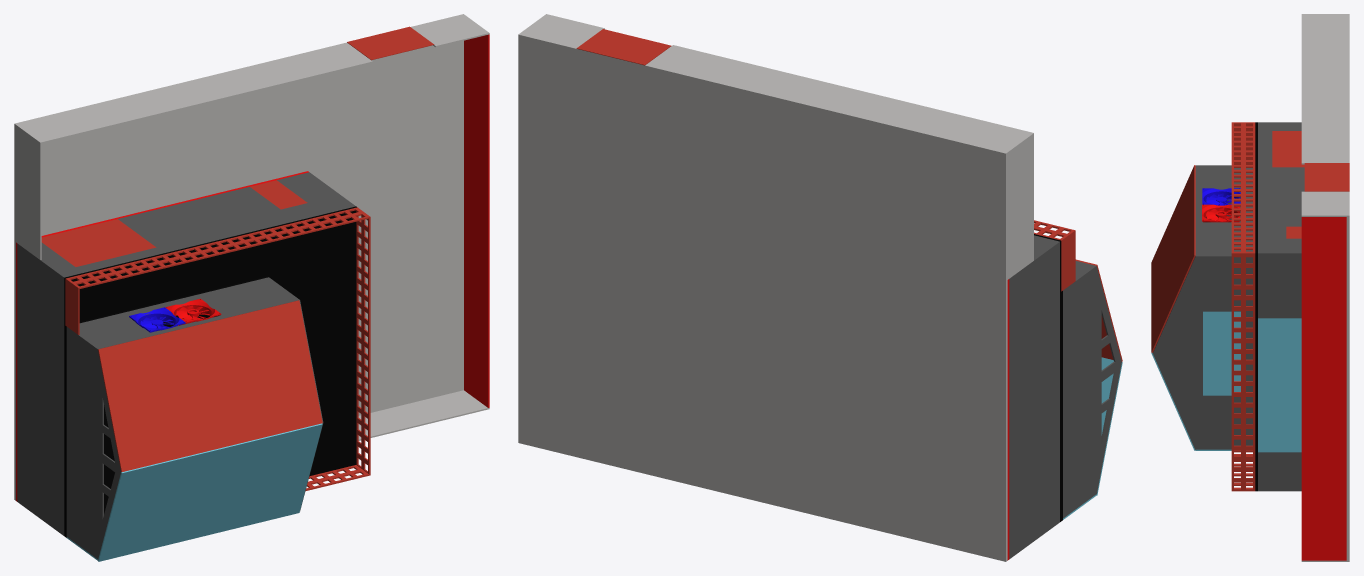
Rendered from smart+home+v2.fbx.
3 views of the same model, side by side, from view 1: azimuth 30°, elevation 25°; view 2: azimuth 150°, elevation 25°; view 3: azimuth 270°, elevation 25° (orthographic). The views are drawn at different scales.
Visible parts, largest first — view 1: Body1 (×13), Body2 (×5), Body3, Body1 (2); view 2: Body1 (×4), Body3, Body2 (×2); view 3: Body1 (×13), Body2 (×5), Body1 (3), Body1 (2), Body1 (4).
Part boxes in pixels (x1=…): Body1 (×13): x1=14, y1=14, x2=489, y2=561; Body2 (×5): x1=41, y1=26, x2=434, y2=559; Body3: x1=17, y1=243, x2=64, y2=535; Body1 (2): x1=129, y1=307, x2=185, y2=332; Body1 (×4): x1=518, y1=14, x2=1121, y2=561; Body3: x1=1009, y1=241, x2=1059, y2=559; Body2 (×2): x1=576, y1=29, x2=1096, y2=518; Body1 (×13): x1=1151, y1=14, x2=1349, y2=561; Body2 (×5): x1=1195, y1=131, x2=1349, y2=491; Body1 (3): x1=1202, y1=204, x2=1240, y2=222; Body1 (2): x1=1202, y1=188, x2=1240, y2=205; Body1 (4): x1=1206, y1=208, x2=1236, y2=221.
Bounding box in the file's own units: 1000 × 802 × 415.
